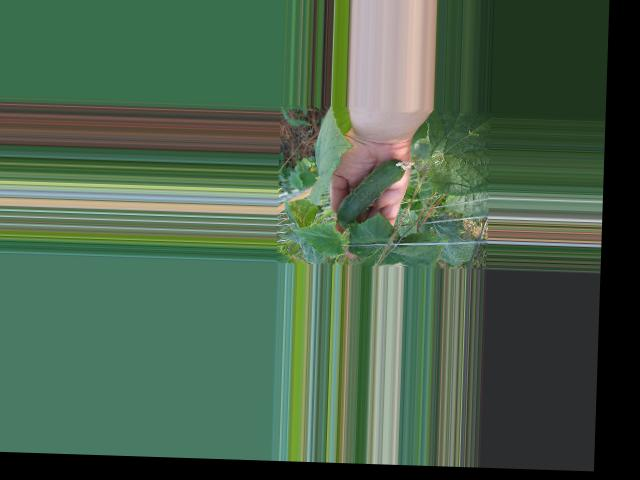cucumber: (337, 157, 415, 226)
